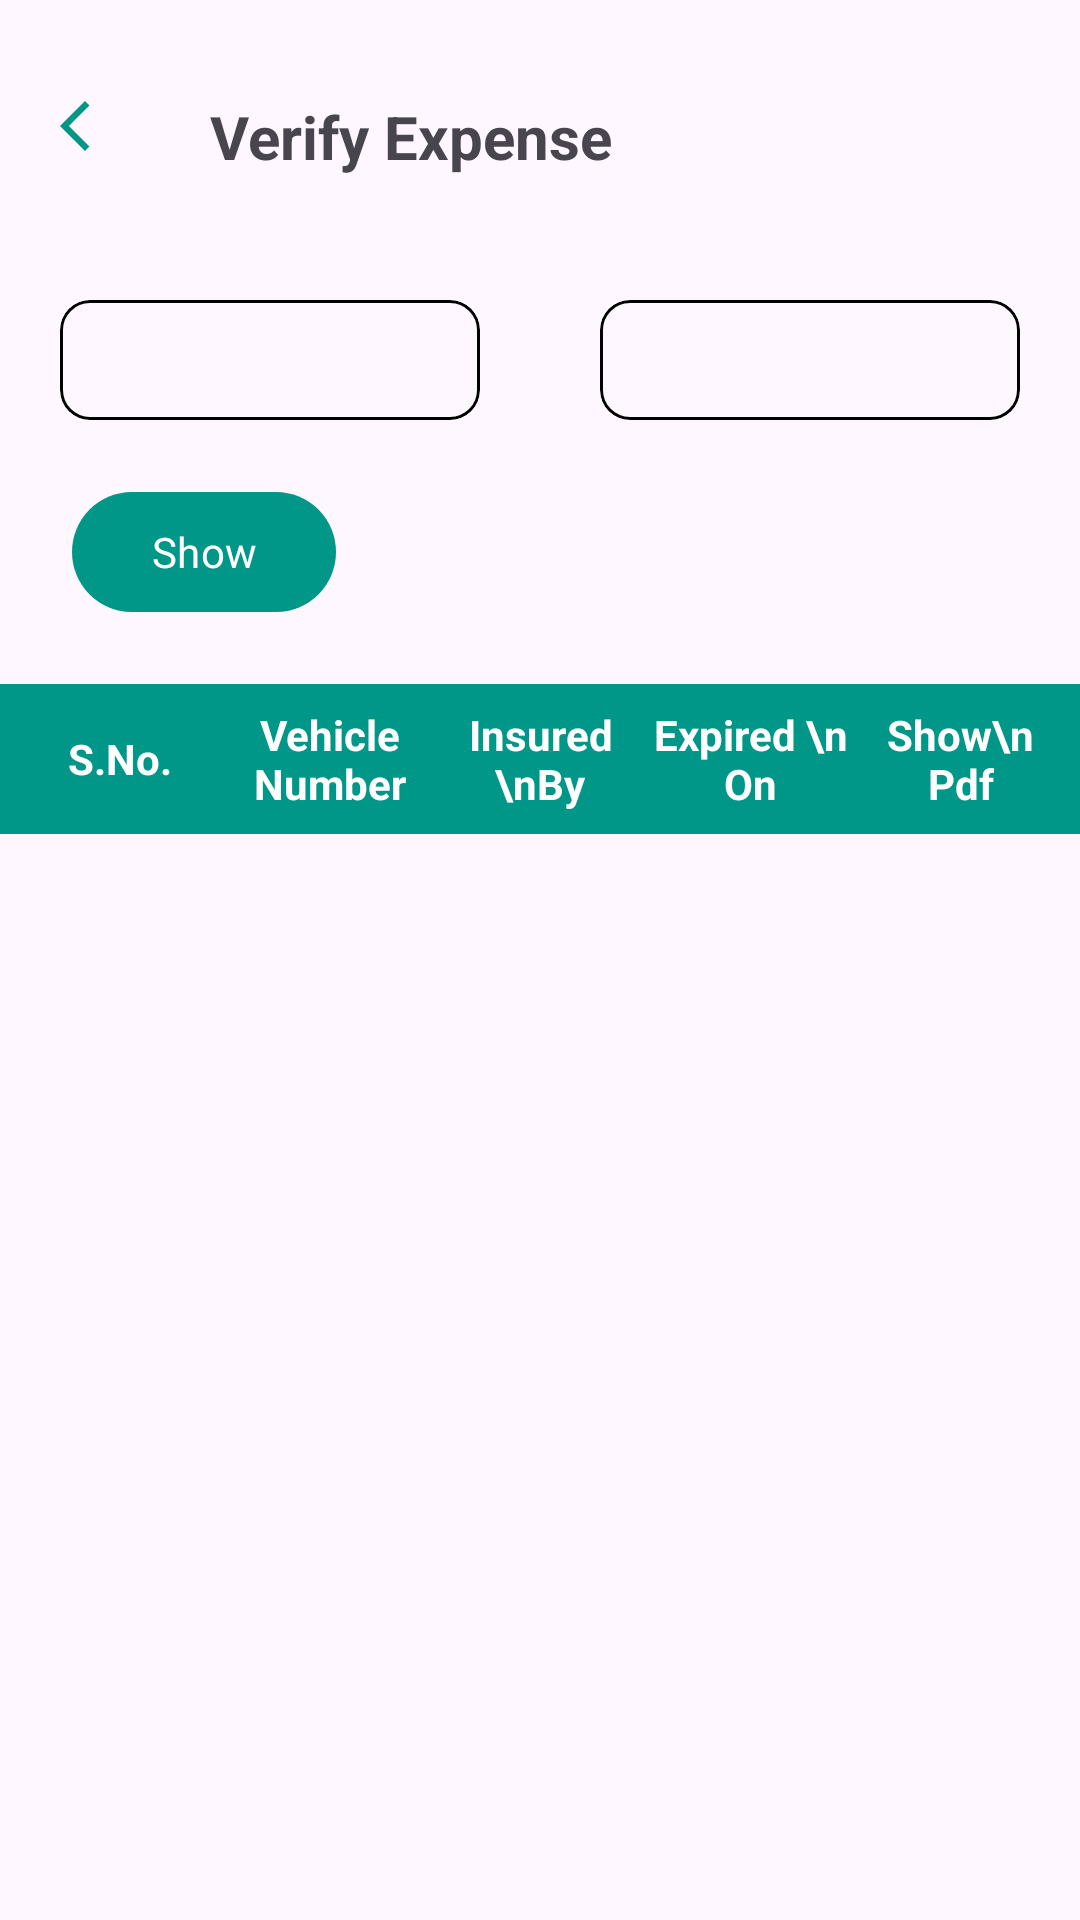

Where to tap for icons on this 1080 × 1920 app screen, as point (x, y):
back: point (75, 126)
